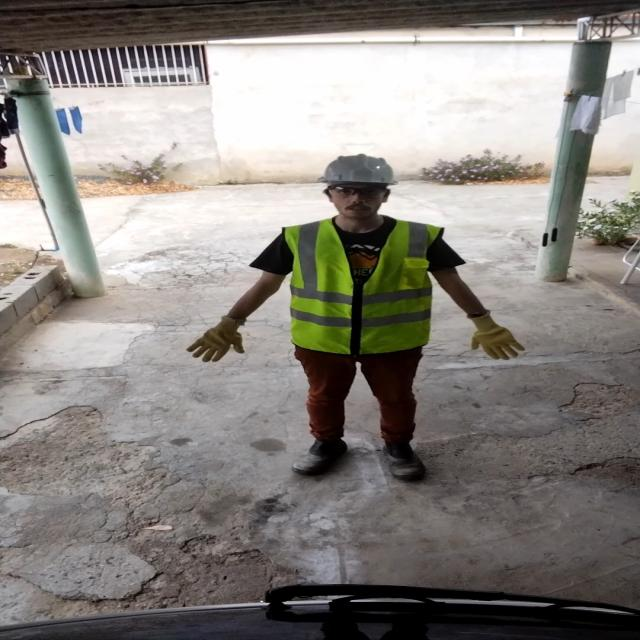glove: (455, 310, 523, 364), (184, 314, 247, 360)
helmet: (314, 152, 405, 189)
pants: (286, 347, 430, 448)
vest: (274, 218, 442, 356)
